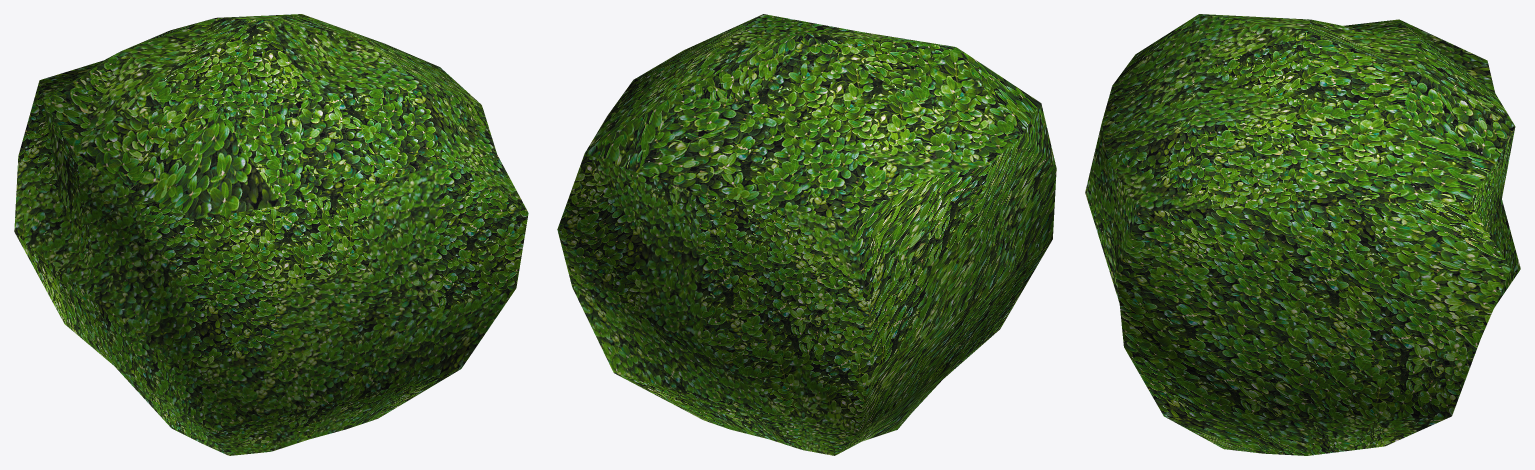
File: bush.glb
The picture shows the model from 3 angles, left to right: view 1: azimuth 30°, elevation 25°; view 2: azimuth 150°, elevation 25°; view 3: azimuth 270°, elevation 25°; orthographic projection. The views are drawn at different scales.
Parts seen in each view (by area): view 1: Cube.006; view 2: Cube.006; view 3: Cube.006.
Boxes of the visible parts, left/top/right/bottom form: Cube.006: left=14, top=14, right=528, bottom=455; Cube.006: left=557, top=14, right=1056, bottom=455; Cube.006: left=1085, top=14, right=1520, bottom=455.
Size of the model in its own units: 2.62 by 2.64 by 2.73.
Materials: 1 (1 with a texture image).
